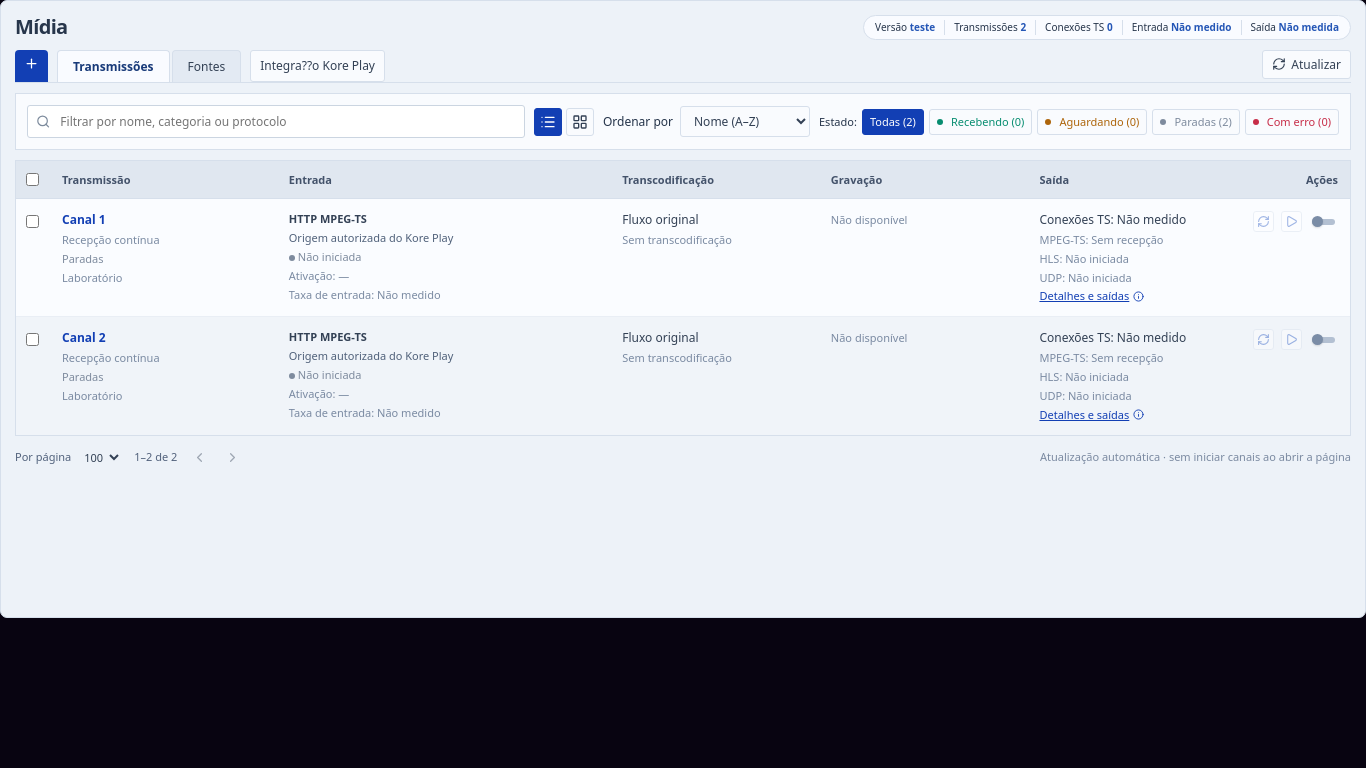
Scenario: opens a Portuguese media inventory without operating sources or exposing unavailable modules
The image size is (1366, 768).
Expected: the button "Canal 1" is shown, [62,211,106,229]
Expected: the tab "Transmissões" is shown, [57,50,170,82]
What coordinates should you click on to do the following:
click the tab "Fontes"
I would click on:
 (206, 66)
Its box is [172,50,241,82].
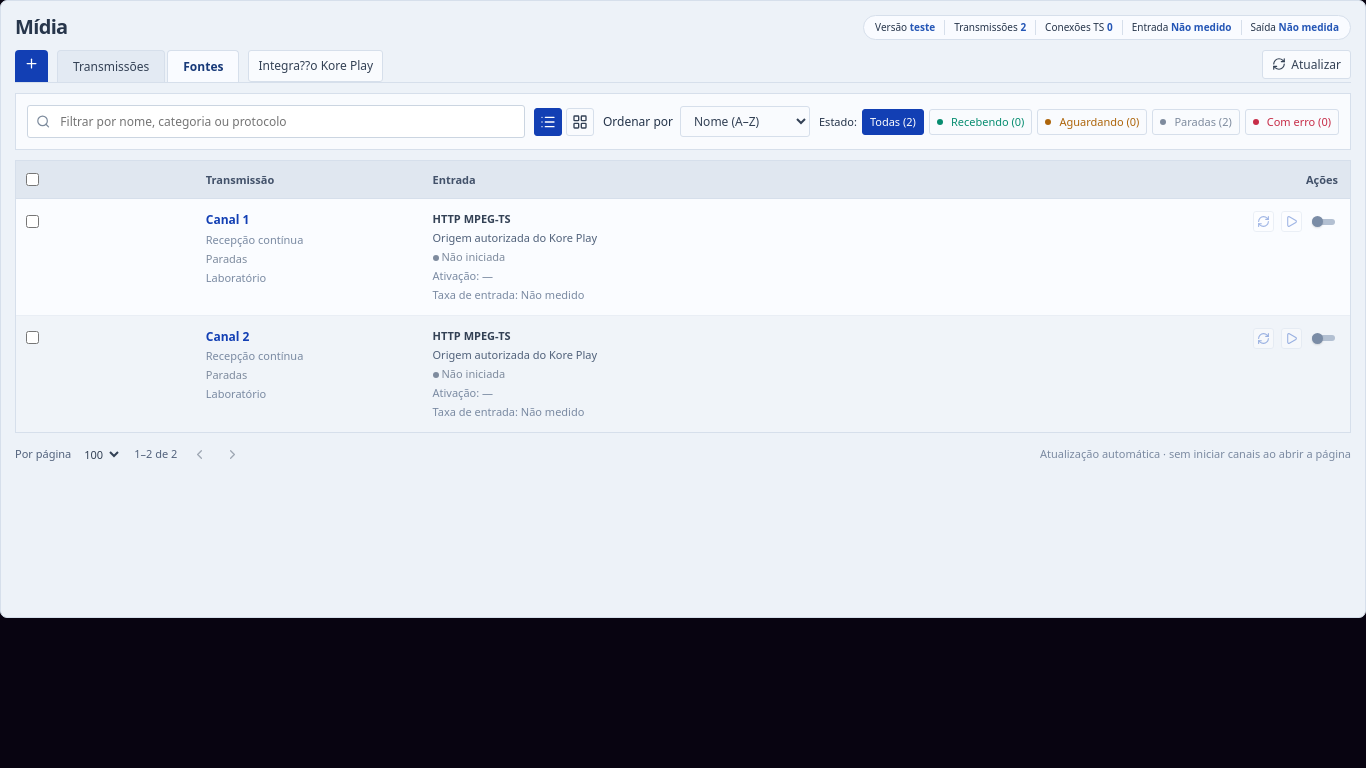
Expected: the column heading "Gravação" is gone
